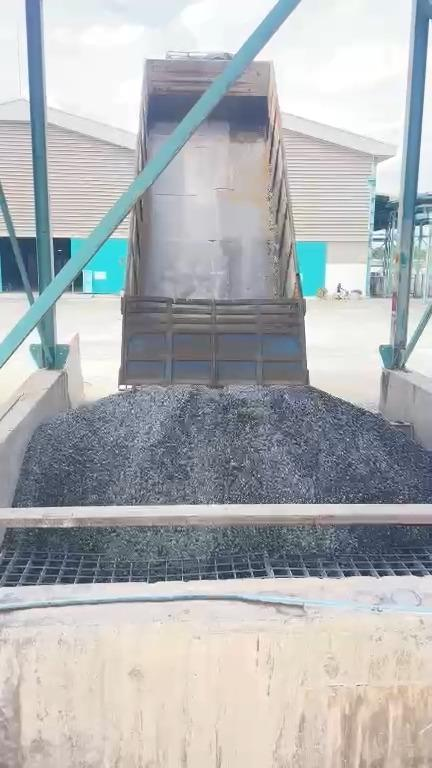gravel: (15, 387, 432, 505), (8, 529, 431, 559)
